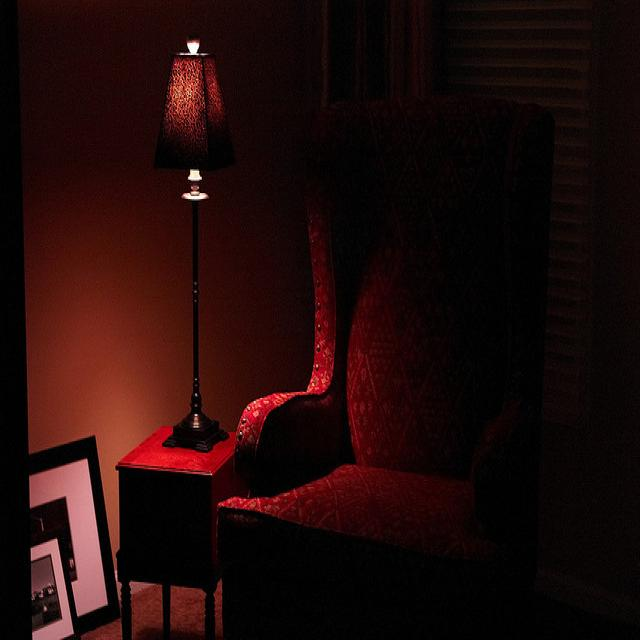Table: (113, 411, 234, 640)
chair: (210, 61, 567, 633)
